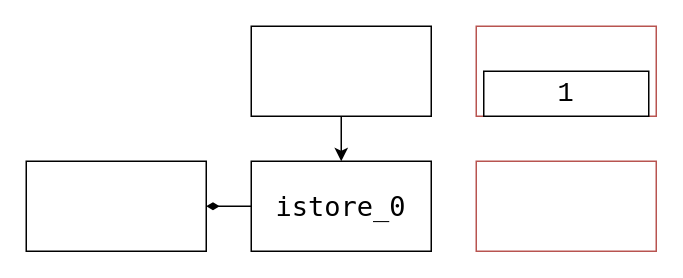
Some shapes in this 683 by 278 pixel diagram are drawn without their labels. Here are the shapes that lost their labels. From the top down, the box of each, then its label:
(250, 25, 431, 116): iconst_1
(25, 160, 206, 251): a = 1
